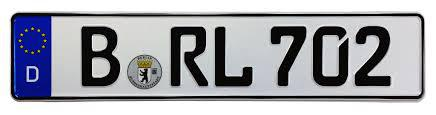0: (312, 22, 350, 88)
2: (353, 21, 395, 89)
7: (268, 23, 309, 89)
B: (78, 24, 122, 90)
L: (212, 23, 255, 89)
R: (167, 23, 209, 89)
